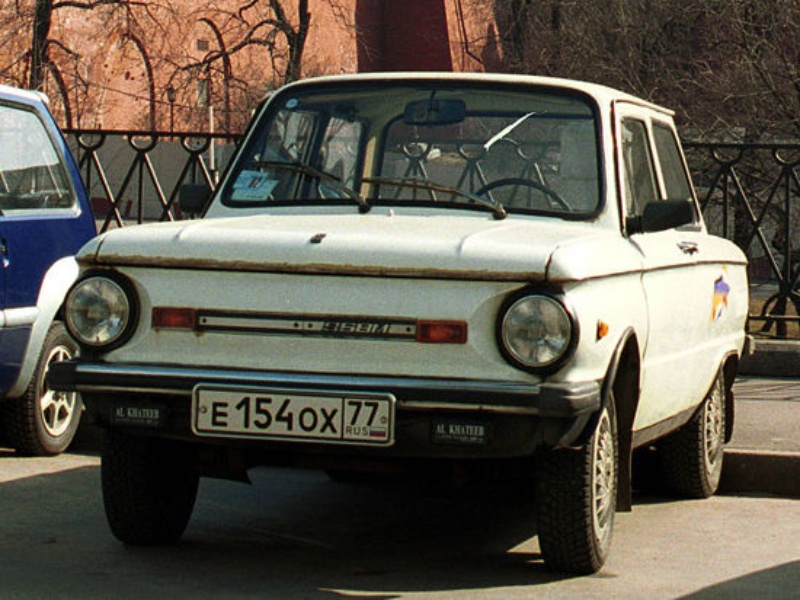car: (44, 72, 756, 571), (1, 84, 95, 454)
plate: (193, 384, 395, 448)
